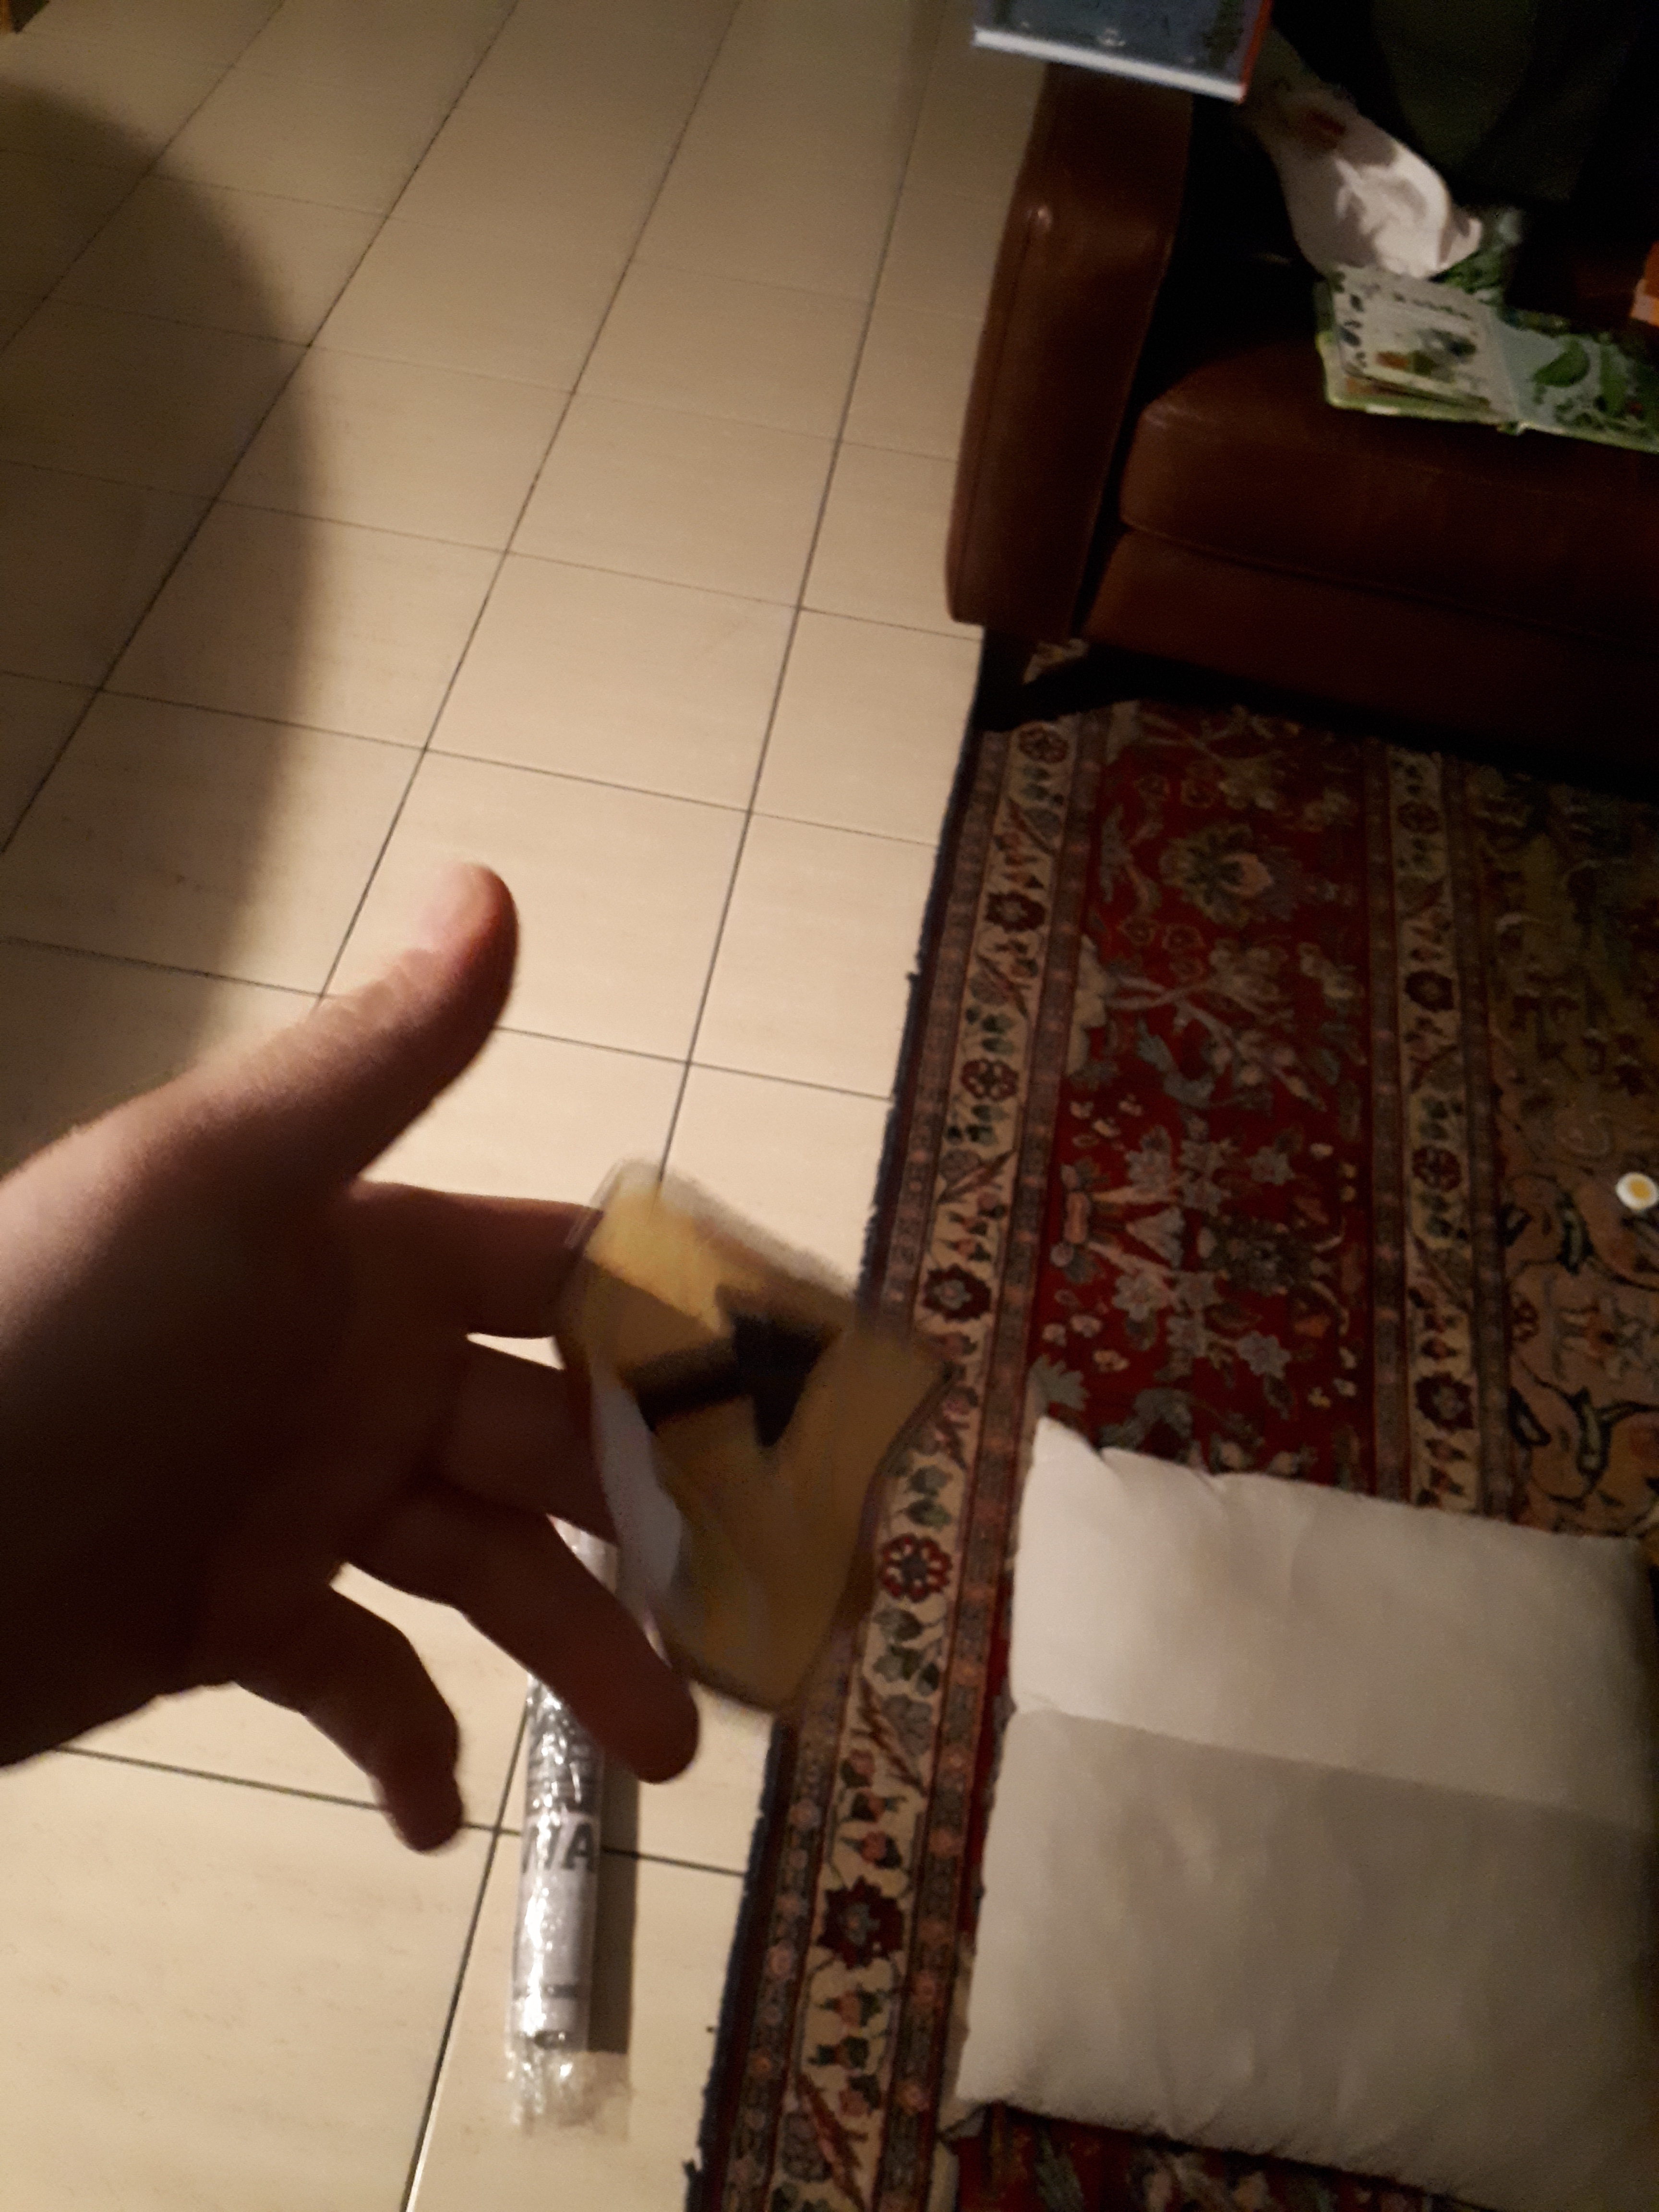right: (532, 1179, 958, 1738), (667, 1254, 873, 1493)
